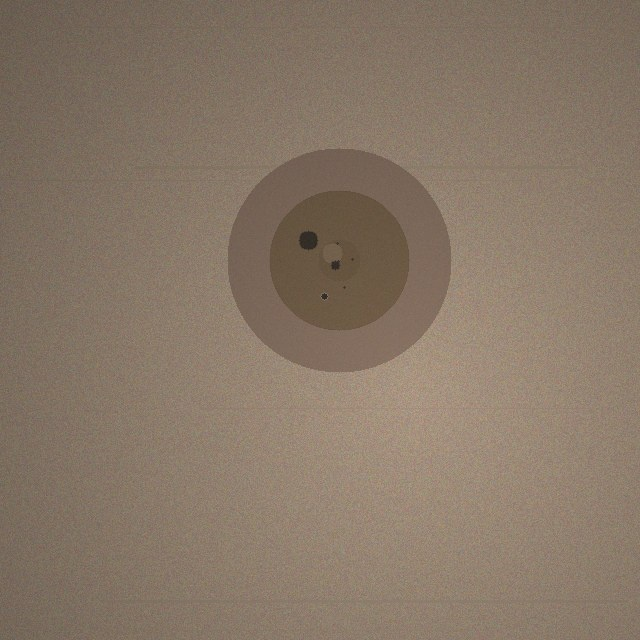shrinkage: (227, 148, 451, 372)
